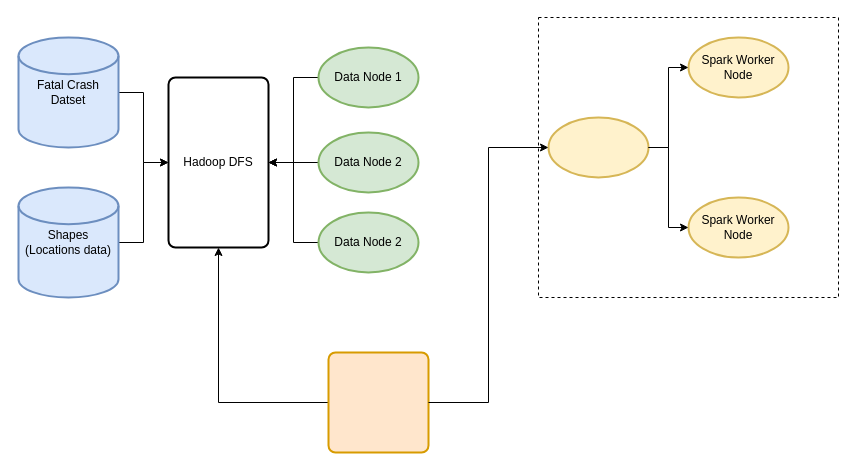
This 856x471 diagram has some shape labels left out. Each missing label, with the box of its shape:
Jupyter Notebook: (327, 351, 429, 453)
Spark Cluster: (538, 16, 838, 298)
Spark Master Node: (547, 116, 649, 178)
